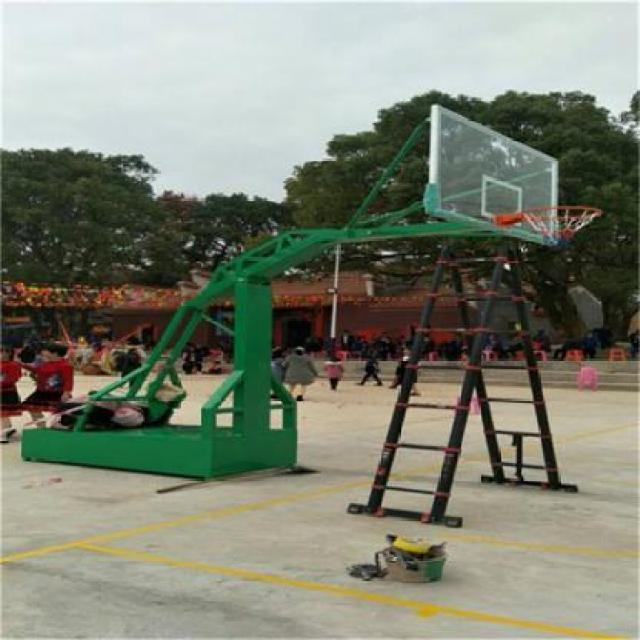rim: (529, 204, 605, 252)
